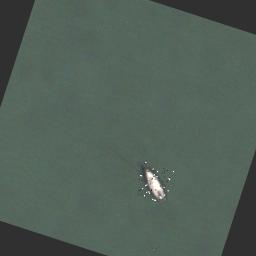boat: (133, 161, 175, 204)
